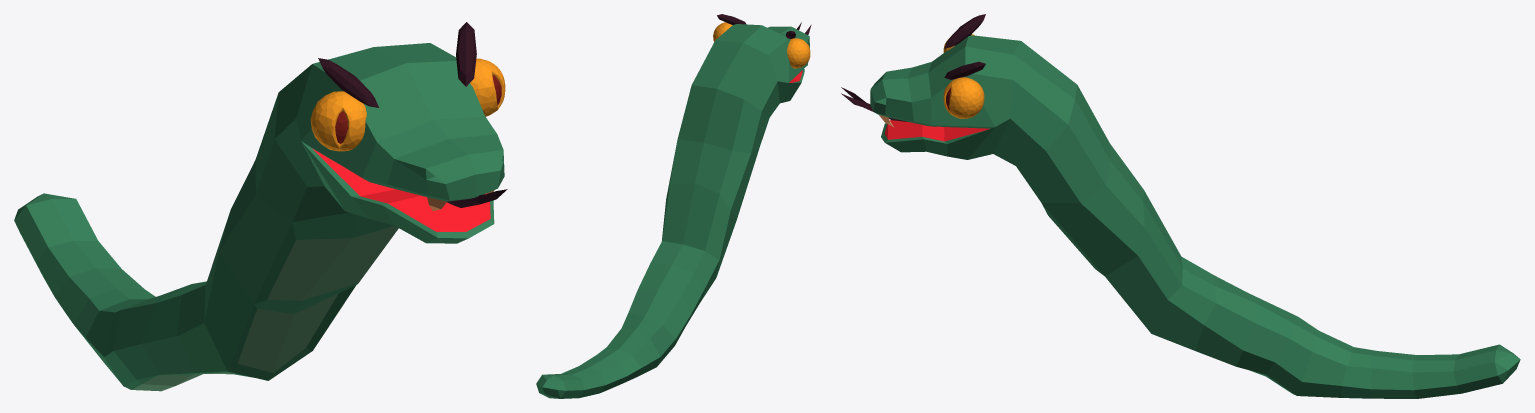
Rendered from Snake_Angry_000010.obj.
3 renders of one model, left to right at view 1: azimuth 30°, elevation 25°; view 2: azimuth 150°, elevation 25°; view 3: azimuth 270°, elevation 25°, orthographic. The views are drawn at different scales.
Parts seen in each view (by area): view 1: Snake_Cylinder; view 2: Snake_Cylinder; view 3: Snake_Cylinder.
Boxes of the visible parts, bbox=[...] form: Snake_Cylinder: bbox=[14, 22, 507, 391]; Snake_Cylinder: bbox=[536, 14, 811, 398]; Snake_Cylinder: bbox=[841, 14, 1520, 398].
Bounding box in the file's own units: 1.05 × 2.77 × 4.82.
